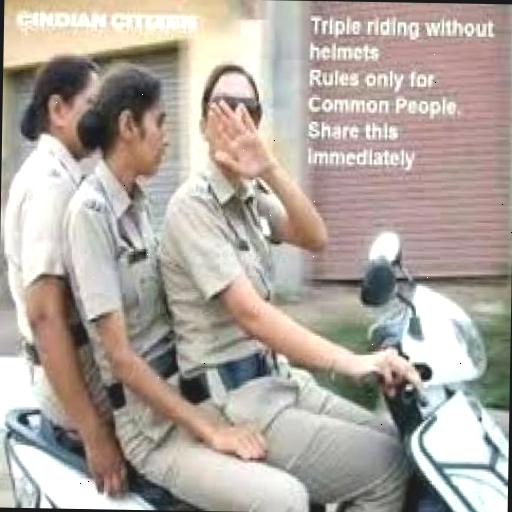no helmet: (160, 60, 332, 270)
triple riding: (5, 44, 496, 512)
